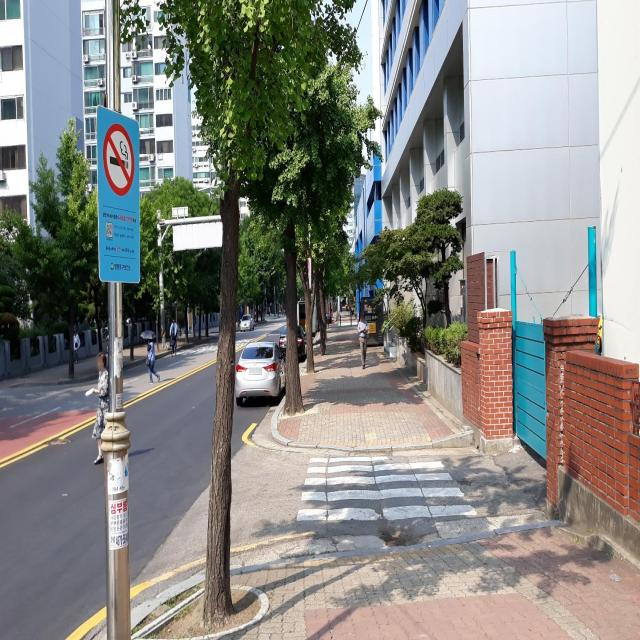횡단보도: (296, 455, 478, 522)
